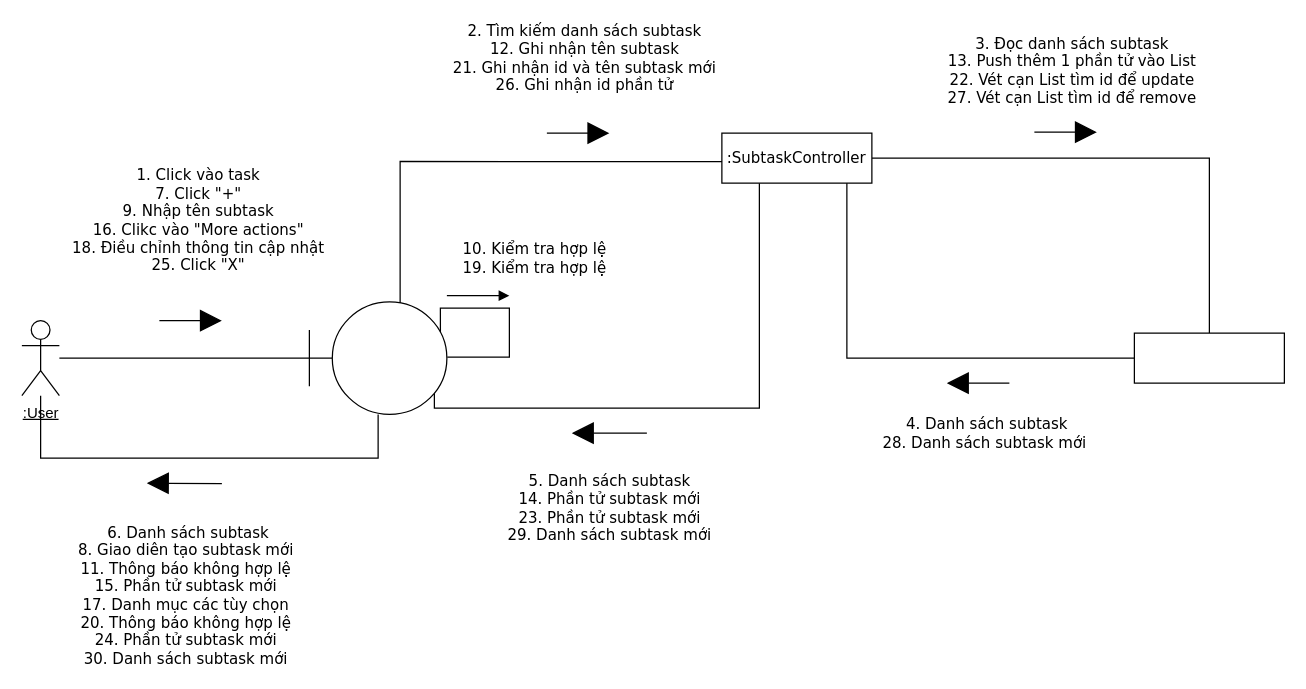
The diagram is 1306 pixels wide and 689 high, and some of its shapes have lost their labels. The box of each missing label's shape, as (x1, y1, x2, y2) in pixels:
:Subtask: (1133, 332, 1284, 383)
:Trang MyTask: (308, 301, 447, 414)
